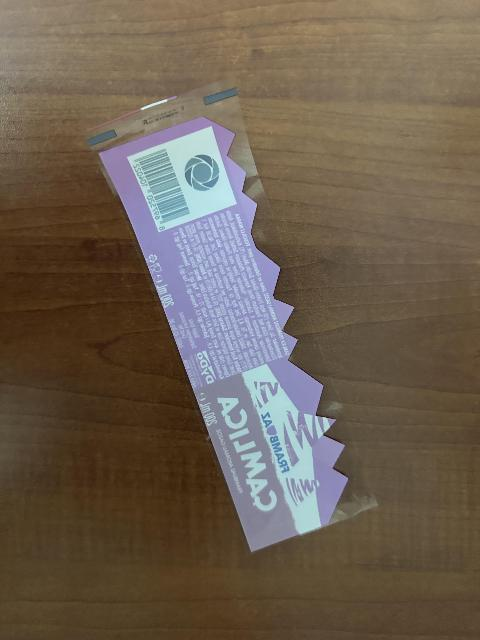Plastik: (83, 86, 378, 551)
